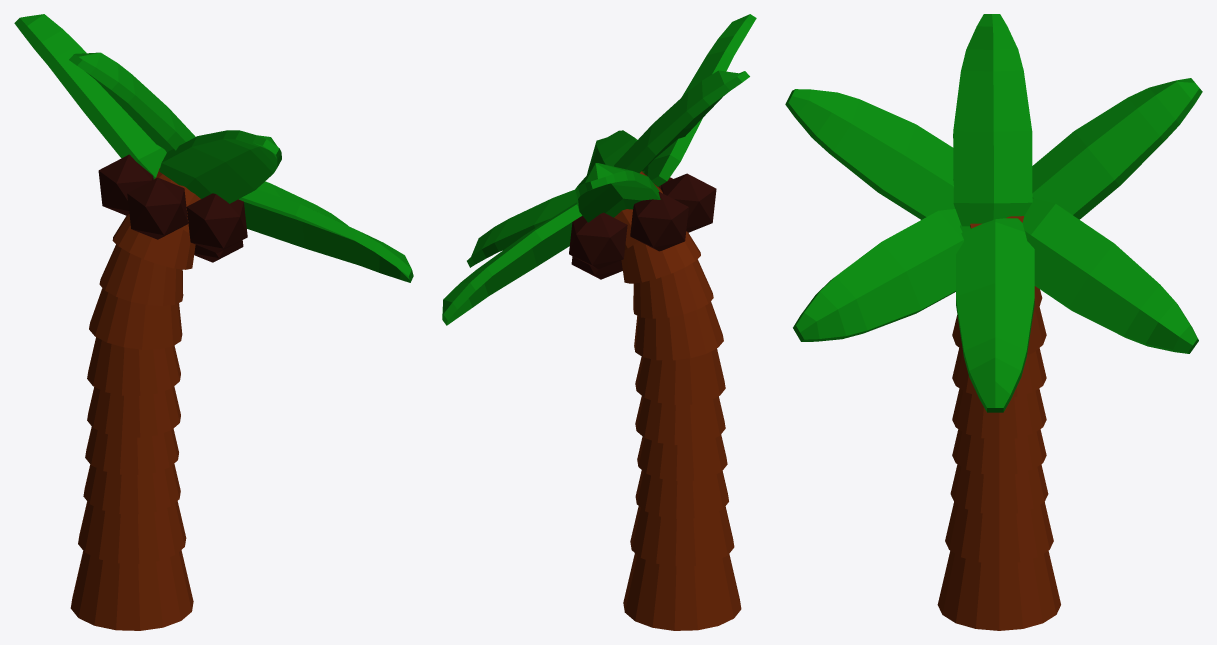
The model's file is palmboom.fbx.
3 views of the same model, side by side, from view 1: azimuth 30°, elevation 25°; view 2: azimuth 150°, elevation 25°; view 3: azimuth 270°, elevation 25° (orthographic). The views are drawn at different scales.
Visible parts, largest first — view 1: Cylinder; view 2: Cylinder; view 3: Cylinder.
Part boxes in pixels (x1,y1,x2,y2): Cylinder: [14, 14, 413, 630]; Cylinder: [442, 14, 756, 630]; Cylinder: [785, 14, 1202, 630].
Size of the model in its own units: 2.24 by 4.24 by 2.85.
